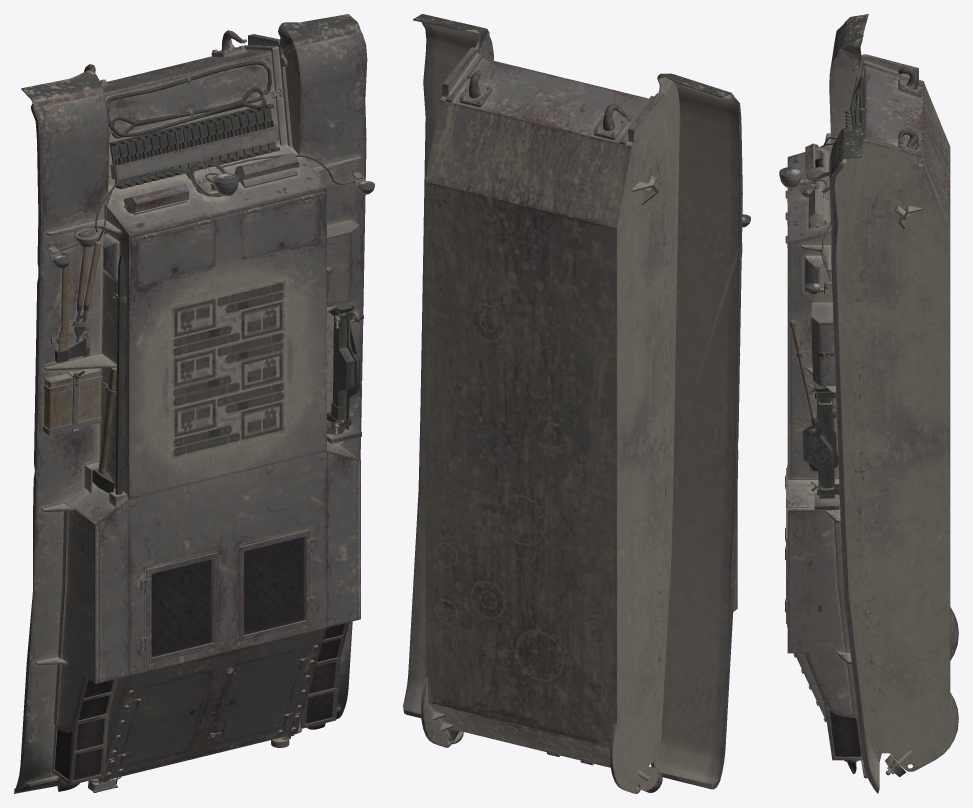
The model's file is Hull.glb.
The picture shows the model from 3 angles, left to right: view 1: azimuth 30°, elevation 25°; view 2: azimuth 150°, elevation 25°; view 3: azimuth 270°, elevation 25°; orthographic projection. The views are drawn at different scales.
Visible parts, largest first — view 1: set_0_group_0; view 2: set_0_group_0; view 3: set_0_group_0.
Boxes of the visible parts, bbox=[...] form: set_0_group_0: bbox=[14, 14, 374, 793]; set_0_group_0: bbox=[403, 14, 750, 793]; set_0_group_0: bbox=[779, 14, 958, 793].
Bounding box in the file's own units: 2.18 × 4.63 × 1.16.
1 material, 1 textured.
